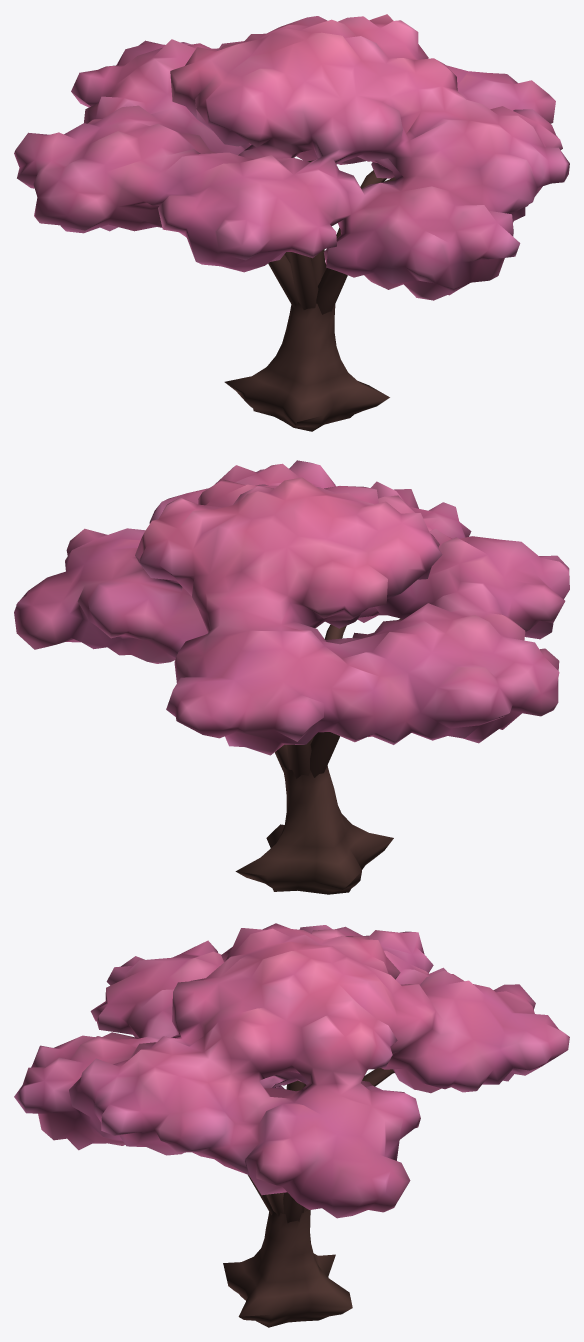
Rendered from tree-sakura.glb.
3 renders of one model, top to bottom at view 1: azimuth 30°, elevation 25°; view 2: azimuth 150°, elevation 25°; view 3: azimuth 270°, elevation 25°, orthographic. The views are drawn at different scales.
Parts seen in each view (by area): view 1: Sakura Blossom, Sakura Bark; view 2: Sakura Blossom, Sakura Bark; view 3: Sakura Blossom, Sakura Bark.
Boxes of the visible parts, x1,y1,x2,y2 form: Sakura Blossom: [14, 14, 569, 300]; Sakura Bark: [224, 160, 395, 431]; Sakura Blossom: [14, 460, 569, 755]; Sakura Bark: [235, 619, 401, 894]; Sakura Blossom: [14, 923, 569, 1218]; Sakura Bark: [223, 1068, 394, 1327].
Bounding box in the file's own units: 9.74 × 6.99 × 9.63.
